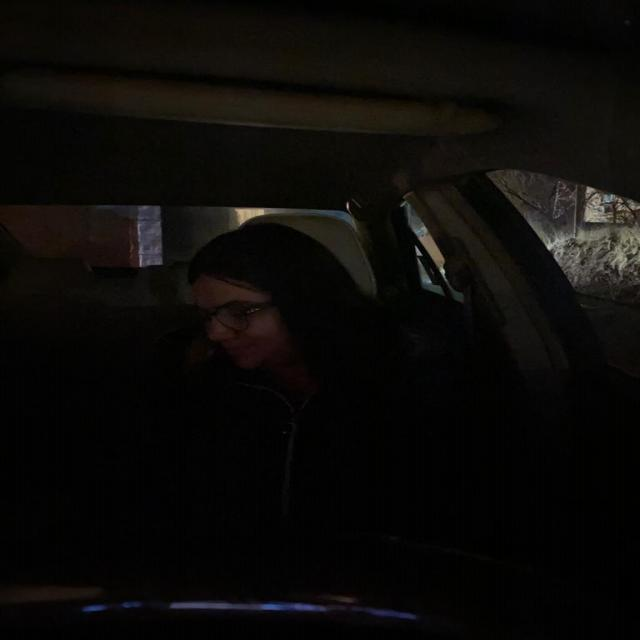drowsy: (175, 238, 328, 378)
